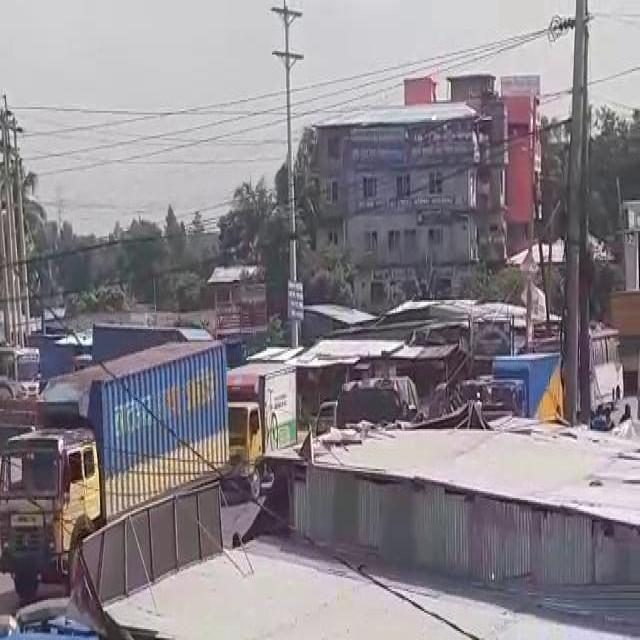vehicle: (4, 337, 234, 574), (223, 361, 301, 506), (479, 349, 564, 429), (586, 323, 624, 414), (3, 345, 44, 407)
